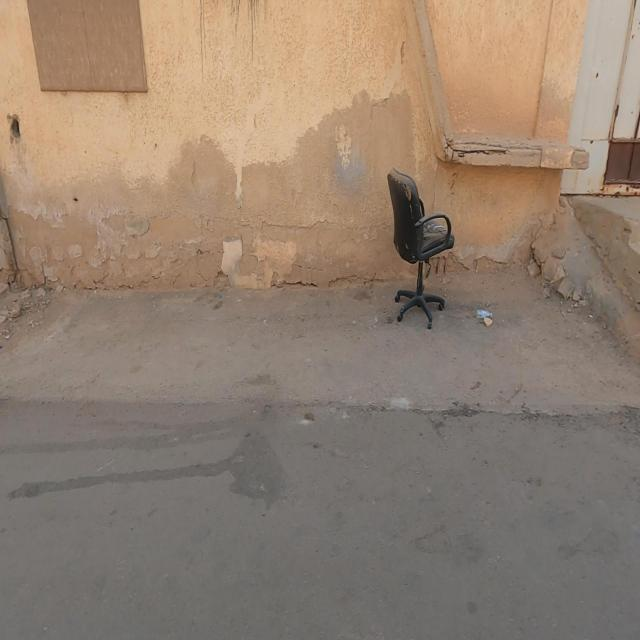debris: (441, 260, 524, 384)
